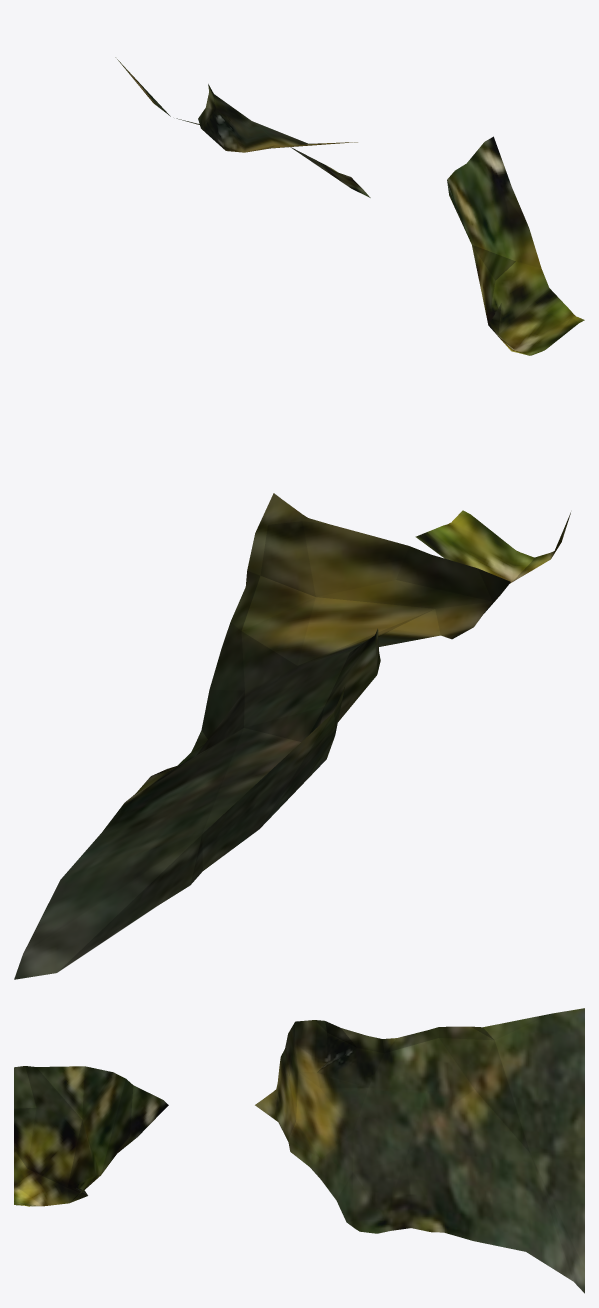
3 renders of one model, top to bottom at view 1: azimuth 30°, elevation 25°; view 2: azimuth 150°, elevation 25°; view 3: azimuth 270°, elevation 25°, orthographic. The views are drawn at different scales.
Bounding box in the file's own units: 0.6735 × 0.6108 × 1.67.
1 material, 1 textured.
